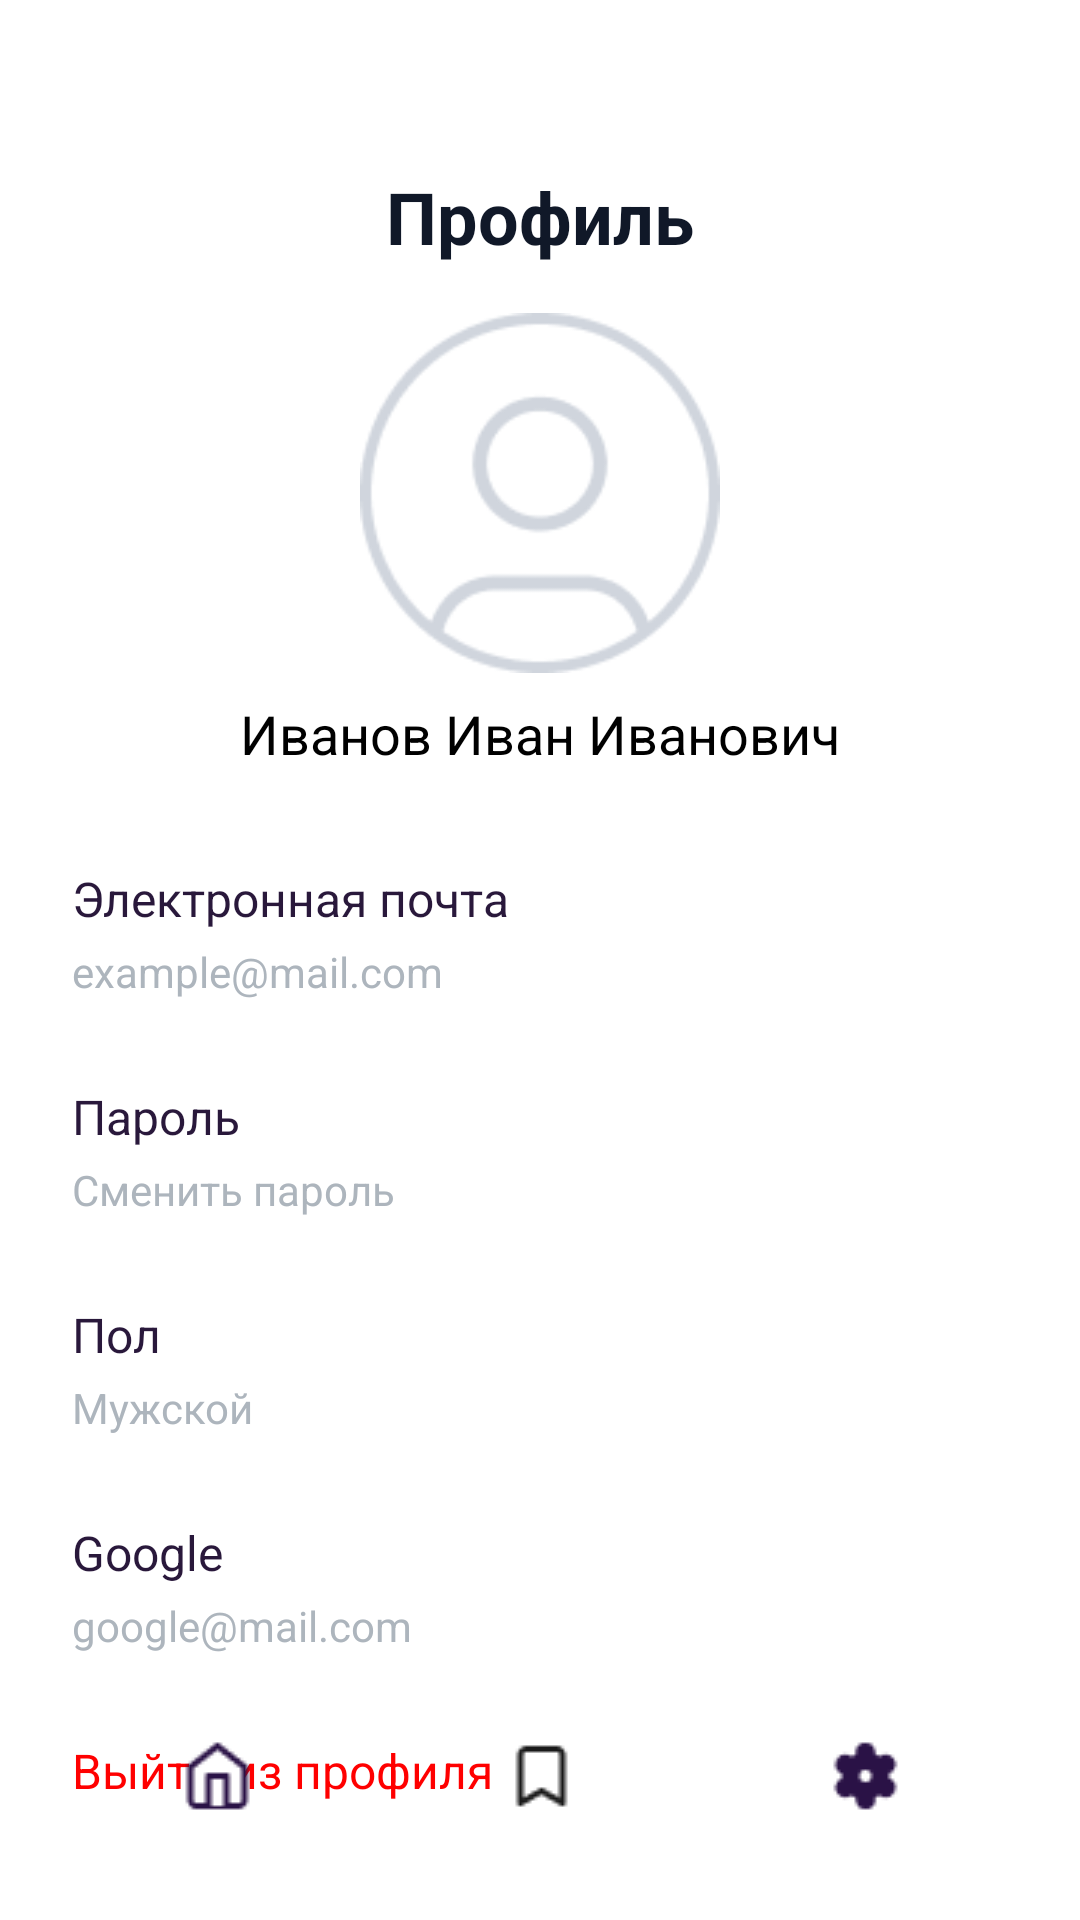

Icons on this 1080w x 1920h Android screen, each with its box as (x1, y1, x2, y2):
Настройки: (833, 1742, 898, 1810)
